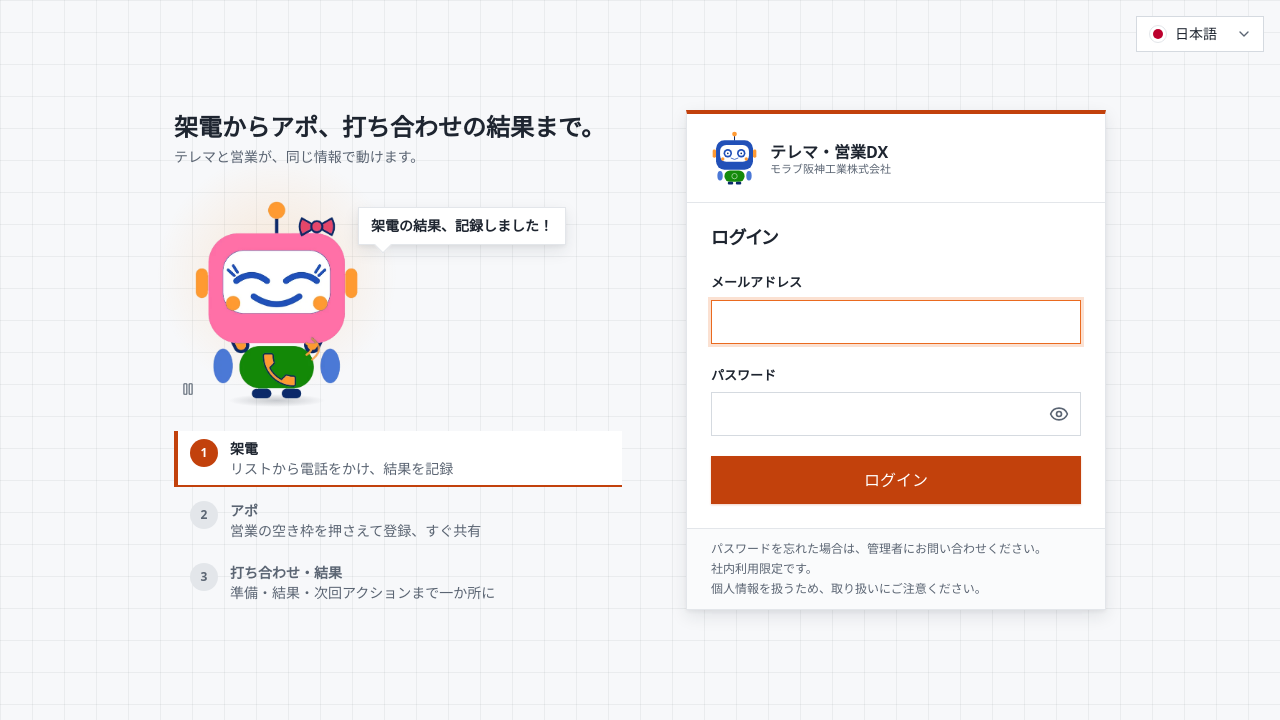
LoginPage › shows the credential error returned by the API
Type "tanaka@example.co.jp" into the field labelled "メールアドレス" at (896, 322), box x1=711 y1=300 x2=1081 y2=344
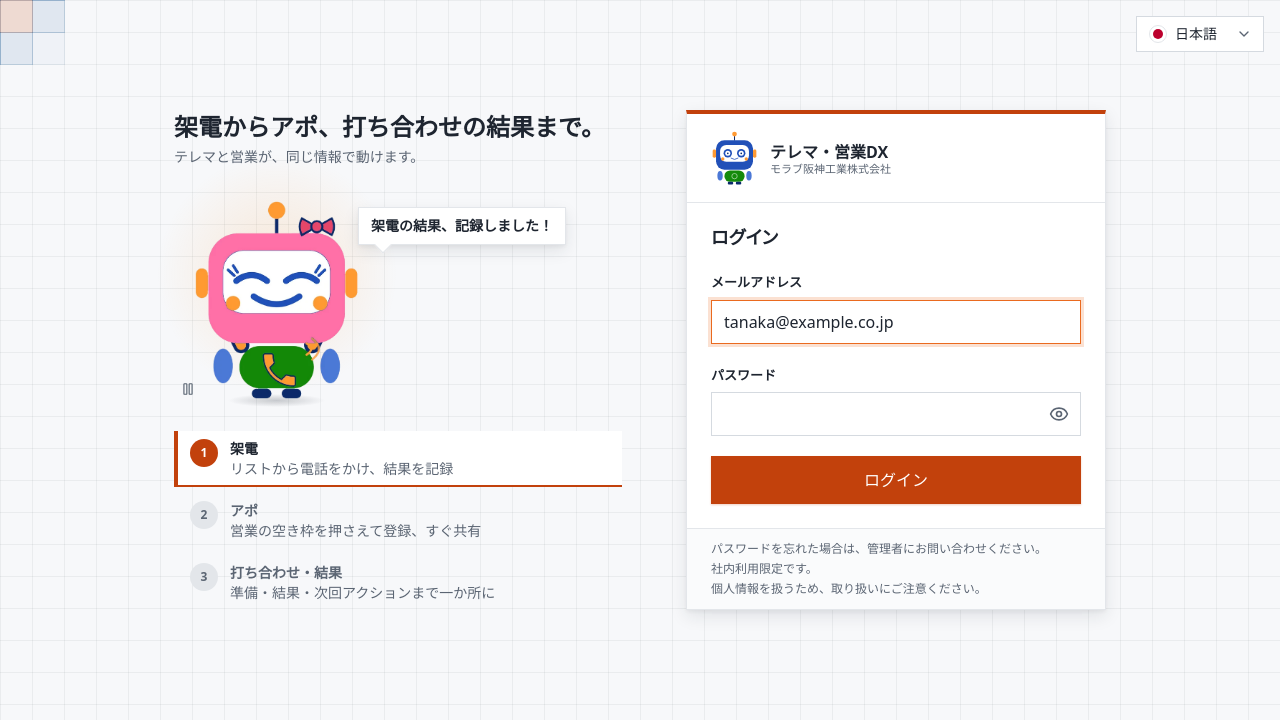
Type "wrong-password" into the password field labelled "パスワード" at (896, 414), box x1=711 y1=392 x2=1081 y2=436
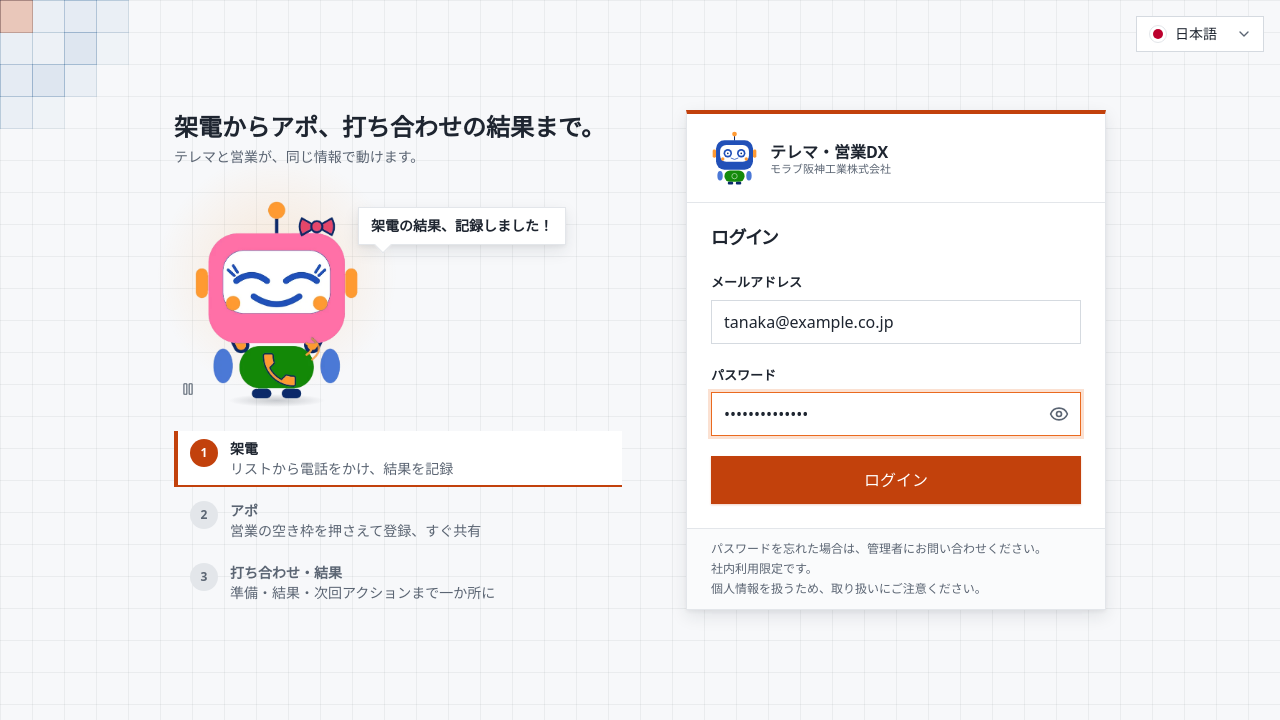
Click the button "ログイン" at (896, 480), box x1=711 y1=456 x2=1081 y2=504
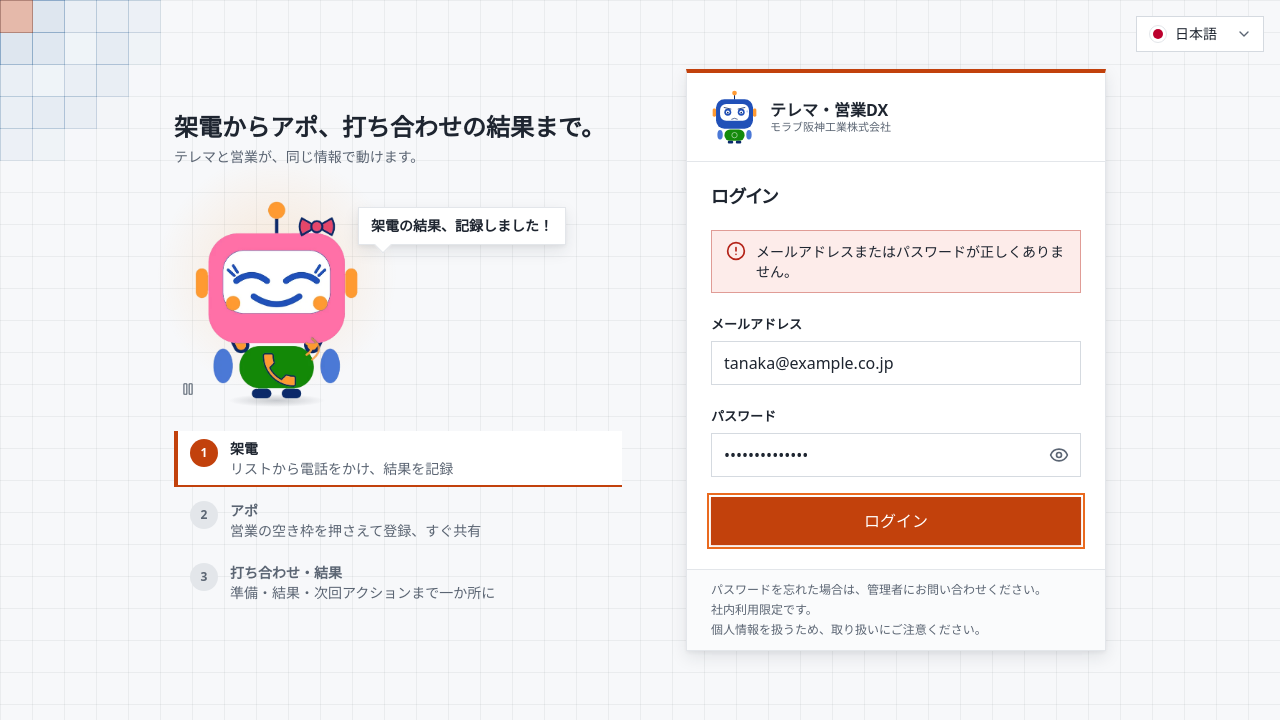
Result: the message reads "メールアドレスまたはパスワードが正しくありません。" at x1=756 y1=242 x2=1064 y2=281
